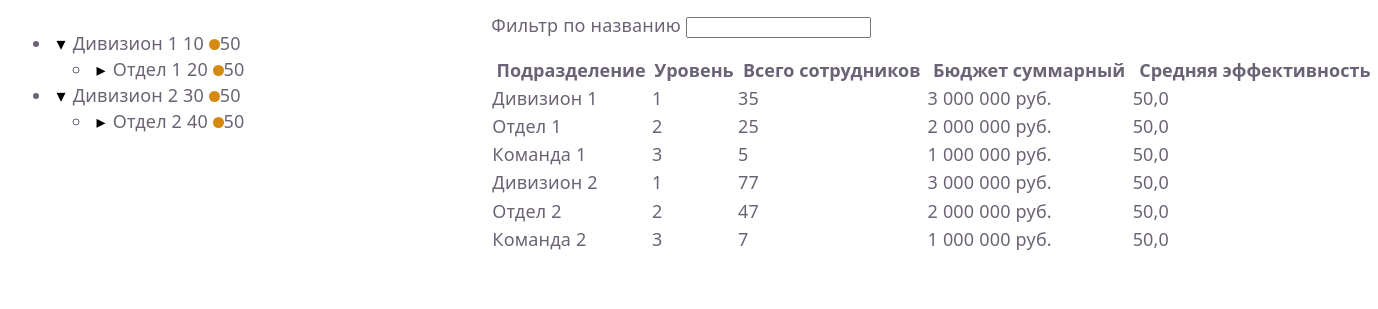
OrgTreeScreen: фоновая ревалидация › AC-001-11: сетевая ошибка при фоновом обновлении оставляет дерево с прежними данными и раскрытием и показывает уведомление
Click the button named "Свернуть Дивизион 1": (61, 43) [56,30,66,56]
Wait 5100 ms
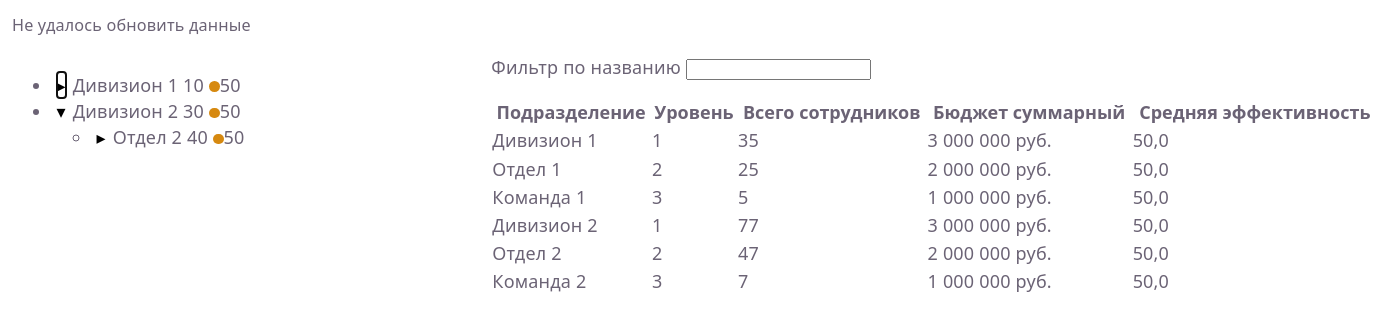
Expected: the text with test id "node-headcount" reads "10", [183,73,204,97]
Now the text "Не удалось обновить данные" is shown, box [12,14,251,36]
Now the button named "Развернуть Дивизион 1" is shown, box [56,72,66,98]
